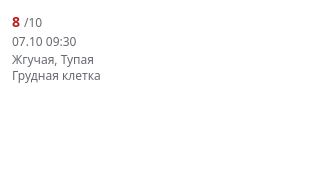
it: PainReadingCell › shows who entered it when the date is focused
This screenshot has width=332, height=172.
Focus the text "07.10 09:30" at (44, 42), box [12,33,76,50]
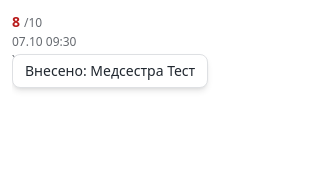
Expected: the tooltip "Внесено: Медсестра Тест" is shown, [12,54,208,88]
